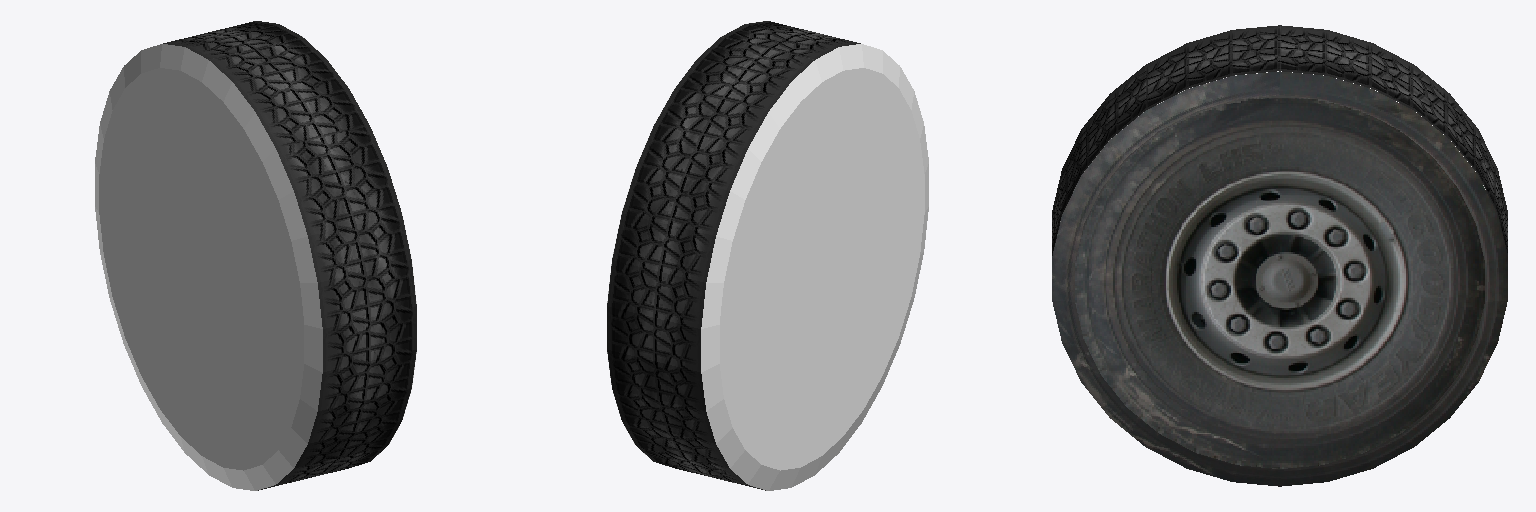
3 renders of one model, left to right at view 1: azimuth 30°, elevation 25°; view 2: azimuth 150°, elevation 25°; view 3: azimuth 270°, elevation 25°, orthographic.
Parts seen in each view (by area): view 1: OBJ0001; view 2: OBJ0001; view 3: OBJ0001.
Part boxes in pixels (x1,y1,x2,y2): OBJ0001: (95, 21, 416, 490); OBJ0001: (607, 21, 928, 490); OBJ0001: (1052, 25, 1507, 486).
Size of the model in its own units: 0.2725 by 1 by 0.9945.
1 materials, 1 textured.